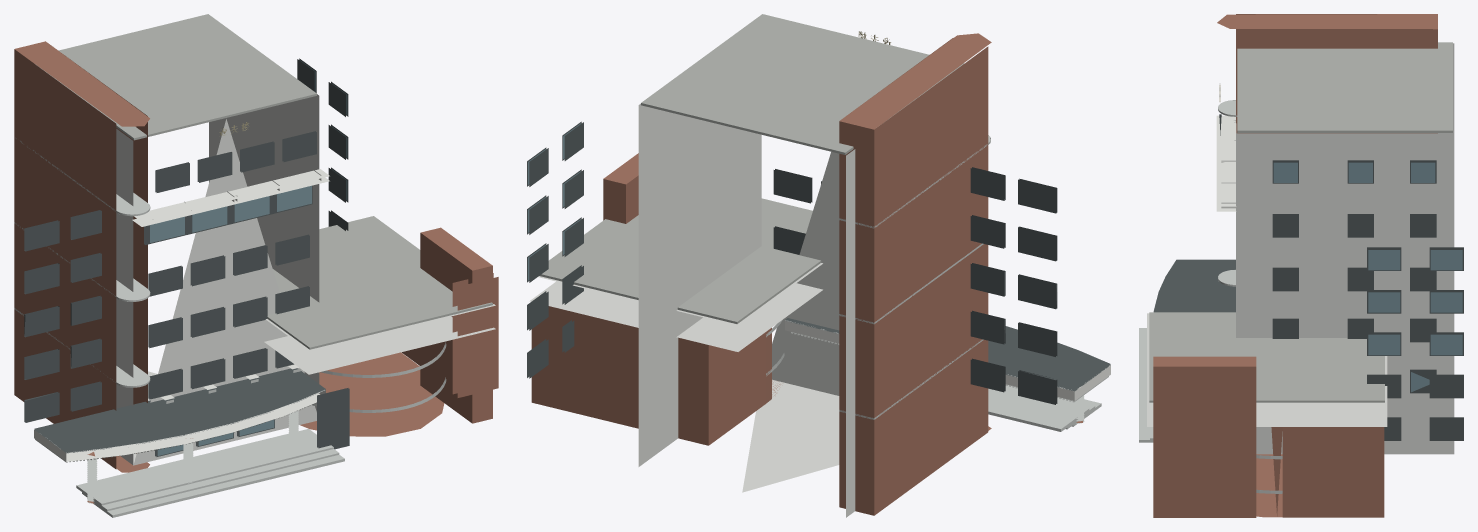
File: buildings-16-medium.glb
The picture shows the model from 3 angles, left to right: view 1: azimuth 30°, elevation 25°; view 2: azimuth 150°, elevation 25°; view 3: azimuth 270°, elevation 25°; orthographic projection. The views are drawn at different scales.
Visible parts, largest first — view 1: 逸夫楼 · Yifu reddish brown stone.002, 逸夫楼 · Yifu charcoal window frames.002, 逸夫楼 · Yifu roof membrane.002, 逸夫楼 · Yifu off-white ceramic facade.002, 逸夫楼 · Yifu ceramic joints.002, 逸夫楼 · Yifu canopy edges.002, 逸夫楼 · Yifu blue grey glass.002; view 2: 逸夫楼 · Yifu reddish brown stone.002, 逸夫楼 · Yifu off-white ceramic facade.002, 逸夫楼 · Yifu roof membrane.002, 逸夫楼 · Yifu charcoal window frames.002, 逸夫楼 · Yifu ceramic joints.002, 逸夫楼 · Yifu canopy edges.002; view 3: 逸夫楼 · Yifu off-white ceramic facade.002, 逸夫楼 · Yifu reddish brown stone.002, 逸夫楼 · Yifu roof membrane.002, 逸夫楼 · Yifu charcoal window frames.002, 逸夫楼 · Yifu blue grey glass.002, 逸夫楼 · Yifu canopy edges.002, 逸夫楼 · Yifu ceramic joints.002.
Part boxes in pixels (x1,y1,x2,y2): 逸夫楼 · Yifu reddish brown stone.002: (14, 41, 498, 503); 逸夫楼 · Yifu charcoal window frames.002: (24, 58, 349, 456); 逸夫楼 · Yifu roof membrane.002: (35, 14, 492, 349); 逸夫楼 · Yifu off-white ceramic facade.002: (116, 94, 495, 465); 逸夫楼 · Yifu ceramic joints.002: (14, 137, 446, 517); 逸夫楼 · Yifu canopy edges.002: (34, 169, 329, 461); 逸夫楼 · Yifu blue grey glass.002: (150, 60, 347, 455); 逸夫楼 · Yifu reddish brown stone.002: (531, 33, 1082, 515); 逸夫楼 · Yifu off-white ceramic facade.002: (529, 103, 855, 517); 逸夫楼 · Yifu roof membrane.002: (539, 14, 964, 323); 逸夫楼 · Yifu charcoal window frames.002: (527, 121, 1110, 404); 逸夫楼 · Yifu ceramic joints.002: (766, 135, 1108, 431); 逸夫楼 · Yifu canopy edges.002: (785, 320, 1110, 400); 逸夫楼 · Yifu off-white ceramic facade.002: (1147, 43, 1454, 454); 逸夫楼 · Yifu reddish brown stone.002: (1153, 14, 1437, 517); 逸夫楼 · Yifu roof membrane.002: (1149, 42, 1452, 402); 逸夫楼 · Yifu charcoal window frames.002: (1153, 114, 1463, 440); 逸夫楼 · Yifu blue grey glass.002: (1273, 162, 1462, 392); 逸夫楼 · Yifu canopy edges.002: (1161, 115, 1236, 285); 逸夫楼 · Yifu ceramic joints.002: (1139, 100, 1282, 493).
Bounding box in the file's own units: 30.7 × 24.2 × 20.8.
